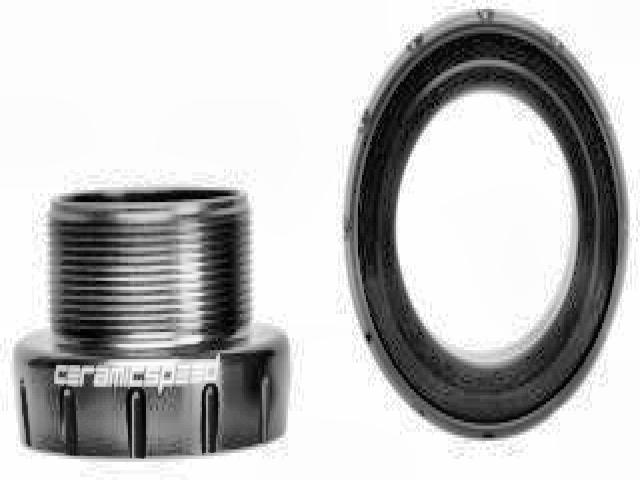bottom_bracket: (342, 8, 632, 440), (12, 180, 291, 464)
